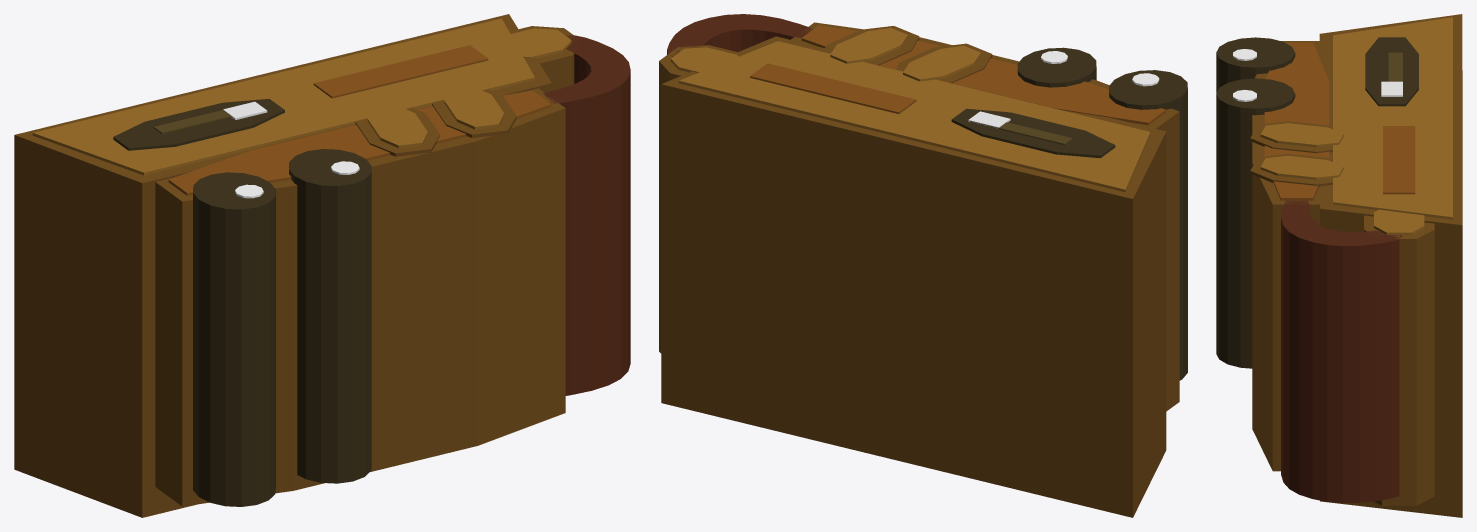
File: bag_radio_militar.fbx
3 views of the same model, side by side, from view 1: azimuth 30°, elevation 25°; view 2: azimuth 150°, elevation 25°; view 3: azimuth 270°, elevation 25° (orthographic). The views are drawn at different scales.
Parts seen in each view (by area): view 1: bag_radio_militar_mochila; view 2: bag_radio_militar_mochila; view 3: bag_radio_militar_mochila.
Boxes of the visible parts, <box> form: bag_radio_militar_mochila: <box>14,14,630,517</box>; bag_radio_militar_mochila: <box>659,14,1187,517</box>; bag_radio_militar_mochila: <box>1216,14,1462,517</box>.
Size of the model in its own units: 3.04 by 1.84 by 1.37.
Materials: 1 (1 with a texture image).
